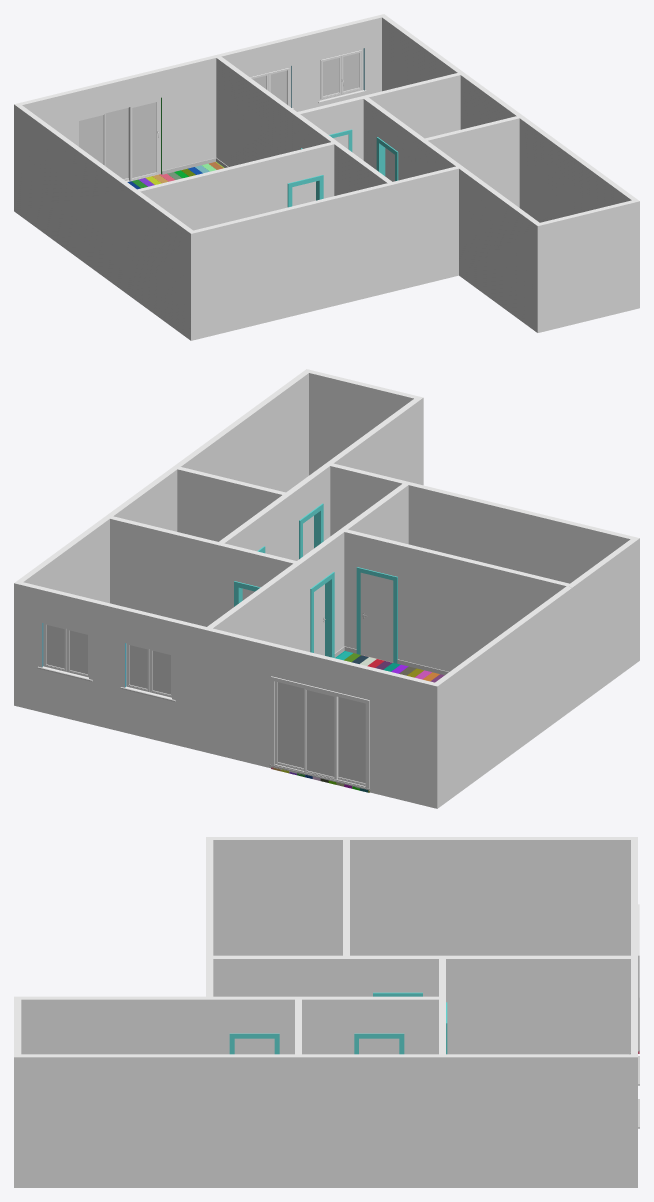
Rendered from house2.fbx.
The picture shows the model from 3 angles, top to bottom: view 1: azimuth 30°, elevation 25°; view 2: azimuth 150°, elevation 25°; view 3: azimuth 270°, elevation 25°; orthographic projection. The views are drawn at different scales.
Visible parts, largest first — view 1: Wall, Wall.001, Wall.004, Wall.002, Wall.003, Wall.005, Window glass, Window glass.001, Window glass.002, Floor.005, Window Panel, Window glass.003 (+5 smaller); view 2: Wall, Wall.001, Wall.004, Wall.005, Wall.002, Wall.003, Door Panel.002, Window glass.001, Window glass.002, Window glass, Window, Floor.005 (+9 smaller); view 3: Wall.001, Wall, Wall.004, Wall.002, Door Panel.003, Door Panel.004.
Part boxes in pixels (box(x1,y1,x2,y2)): Wall: box(14, 54, 395, 339); Wall.001: box(219, 14, 639, 332); Wall.004: box(132, 142, 334, 340); Wall.002: box(297, 95, 460, 180); Wall.003: box(425, 116, 519, 207); Wall.005: box(366, 73, 460, 138); Window glass: box(132, 102, 156, 177); Window glass.001: box(105, 108, 128, 179); Window glass.002: box(79, 115, 102, 163); Floor.005: box(127, 162, 223, 189); Window Panel: box(129, 100, 158, 180); Window glass.003: box(343, 53, 359, 91); Wall: box(203, 481, 633, 808); Wall.001: box(14, 369, 423, 751); Wall.004: box(344, 529, 639, 709); Wall.005: box(110, 516, 217, 626); Wall.002: box(215, 464, 330, 620); Wall.003: box(177, 467, 285, 541); Door Panel.002: box(360, 572, 393, 662); Window glass.001: box(307, 690, 334, 776); Window glass.002: box(338, 697, 365, 783); Window glass: box(278, 682, 303, 768); Window: box(269, 676, 370, 790); Floor.005: box(271, 651, 444, 792); Wall.001: box(14, 959, 637, 1187); Wall: box(206, 837, 637, 1054); Wall.004: box(206, 837, 349, 955); Wall.002: box(213, 959, 445, 1054); Door Panel.003: box(359, 1038, 399, 1054); Door Panel.004: box(234, 1038, 274, 1054).
Bounding box in the file's own units: 1086 × 300 × 1304.
